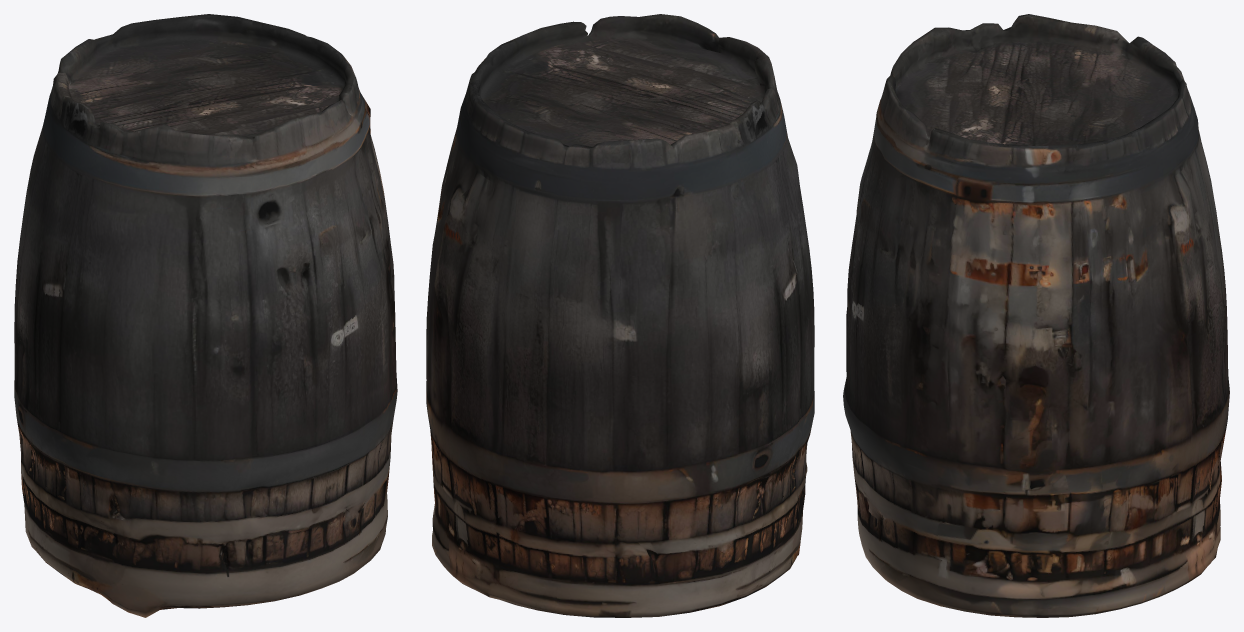
Rendered from barrel.fbx.
3 renders of one model, left to right at view 1: azimuth 30°, elevation 25°; view 2: azimuth 150°, elevation 25°; view 3: azimuth 270°, elevation 25°, orthographic.
Visible parts, largest first — view 1: tripo_node_ef9e9b2e; view 2: tripo_node_ef9e9b2e; view 3: tripo_node_ef9e9b2e.
Boxes of the visible parts, <box> form: tripo_node_ef9e9b2e: <box>14,14,397,617</box>; tripo_node_ef9e9b2e: <box>426,14,814,617</box>; tripo_node_ef9e9b2e: <box>843,14,1229,617</box>.
Bounding box in the file's own units: 71.91 × 99.34 × 71.83.
1 material, 1 textured.
